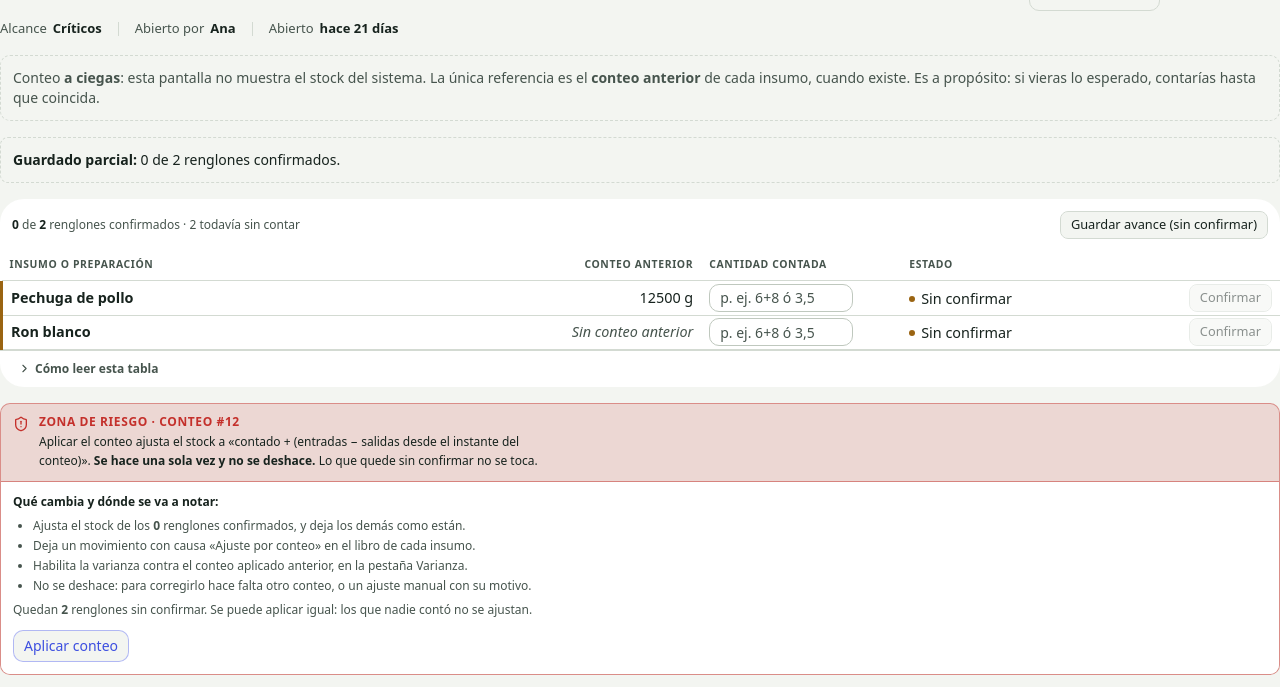
CountCapturePage — a ciegas, sin «todo coincide» (SPEC-NEGOCIO §5.4) › aplicar con éxito muestra el resumen antes/ajuste/después por insumo
This screenshot has width=1280, height=687.
Check: the text "Pechuga de pollo" is shown, box [2,281,378,315]
Click the button "Aplicar conteo".
click(71, 646)  # box [13,630,129,662]
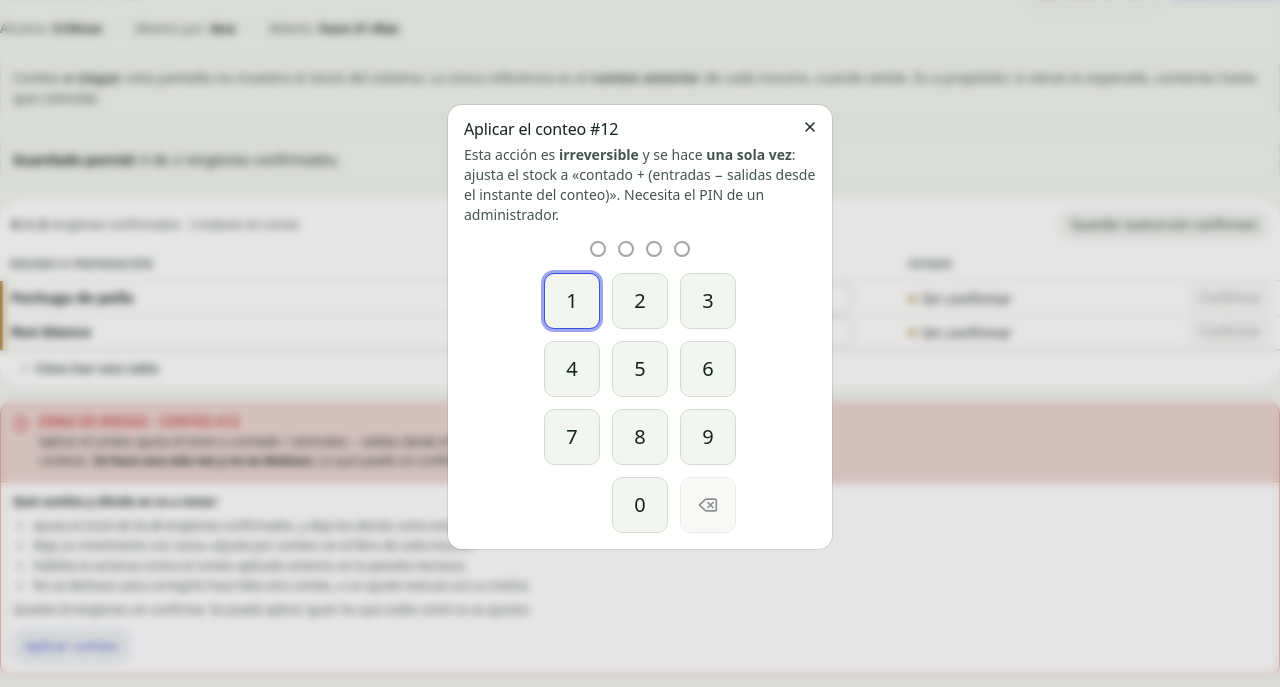
Check: the dialog is shown, box [448,105,832,549]
Click the button named "Dígito 1".
click(572, 301)  # box [544,273,600,329]
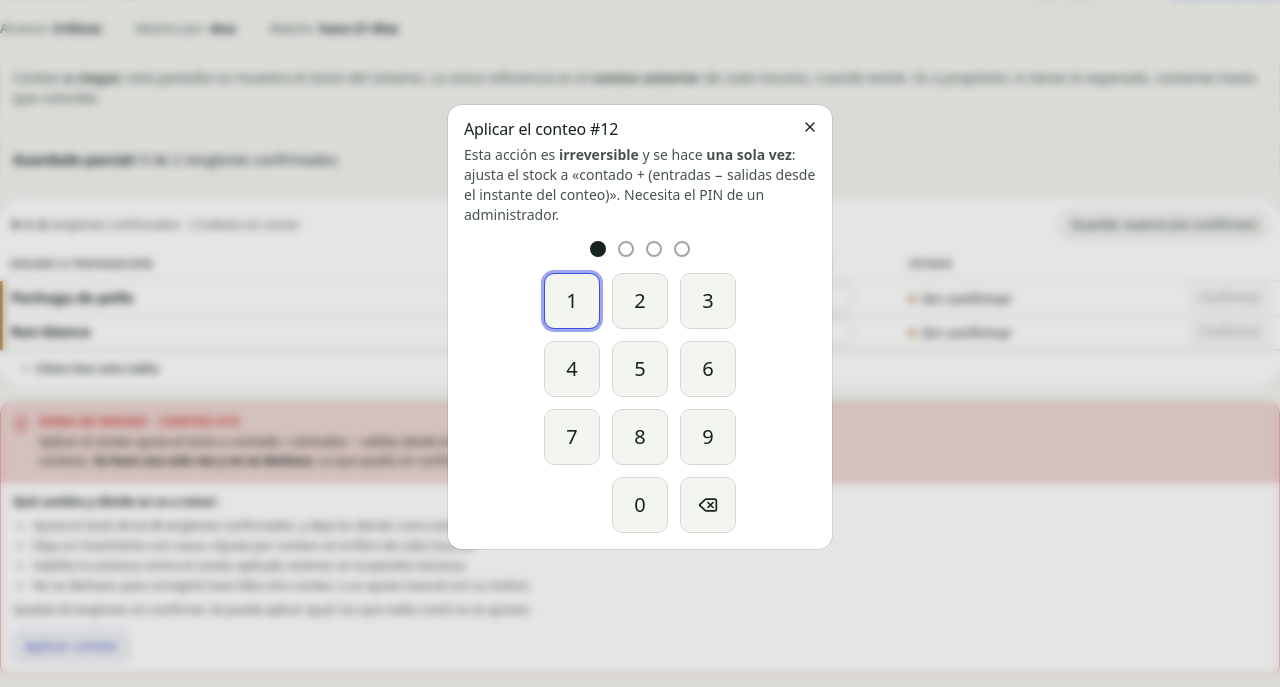
Click the button named "Dígito 2".
click(640, 301)  # box [612,273,668,329]
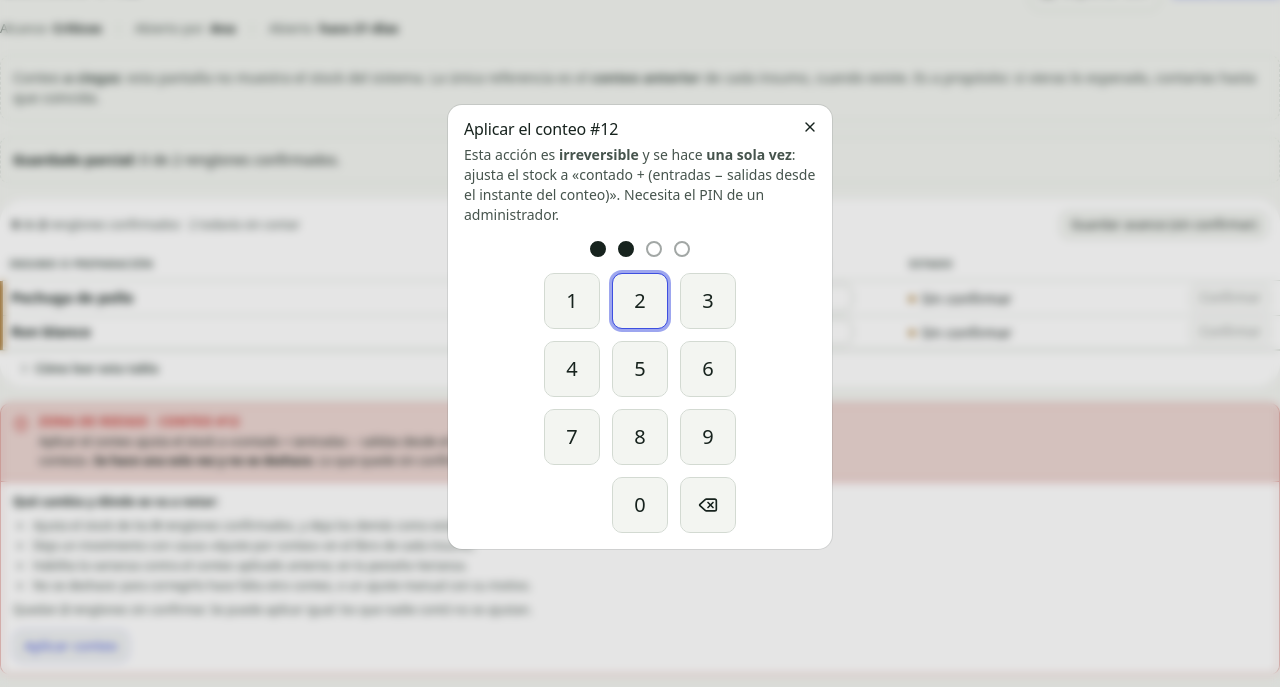
Click the button named "Dígito 3".
click(708, 301)  # box [680,273,736,329]
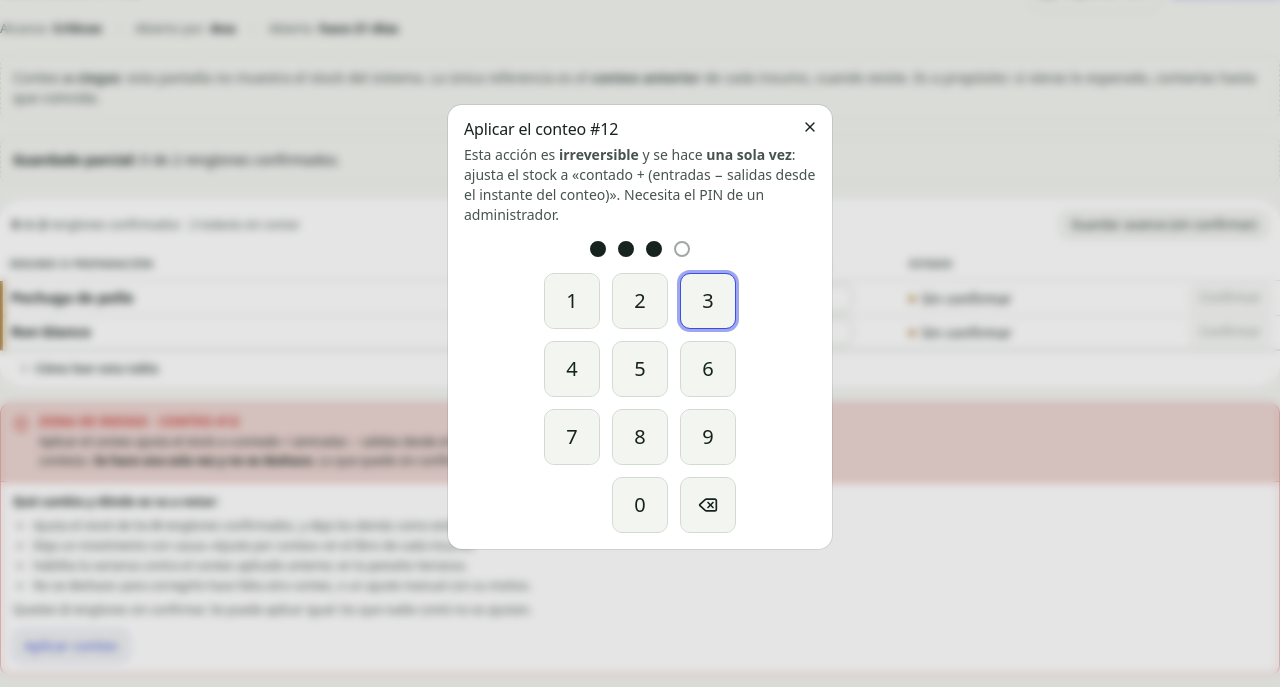
Click the button named "Dígito 4".
click(572, 369)  # box [544,341,600,397]
(page scrolled)
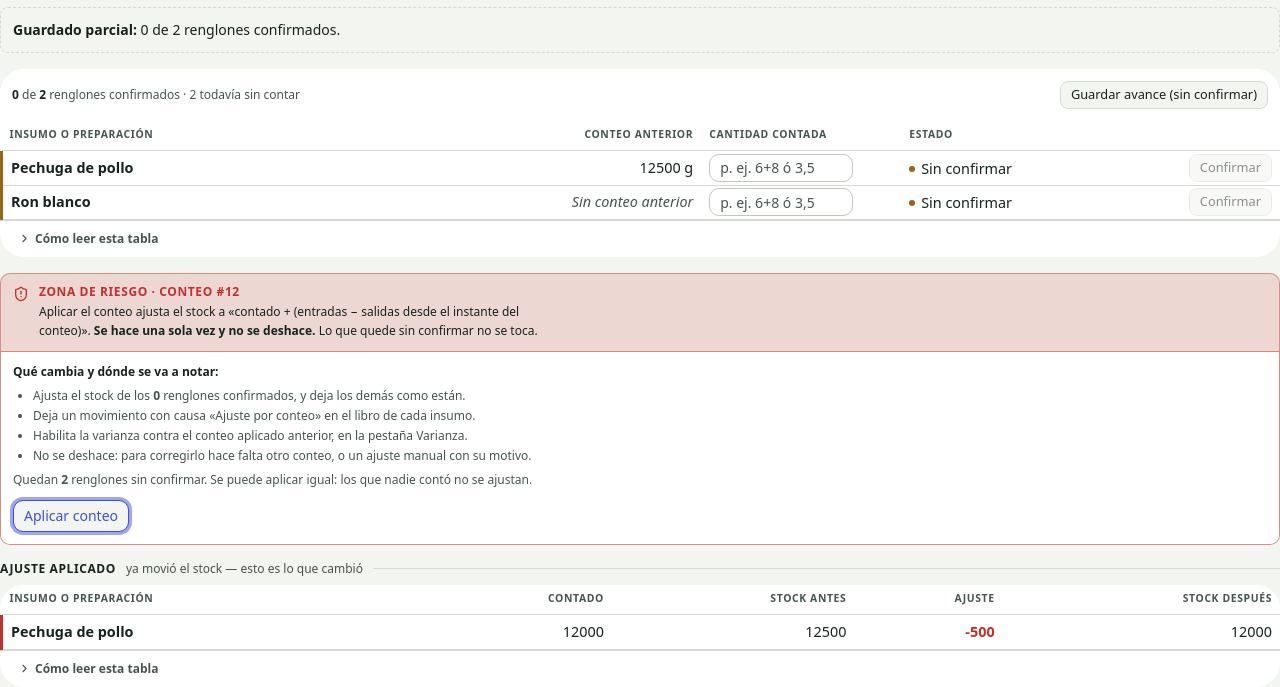
Check: the heading "Ajuste aplicado" is shown, box [0,560,116,576]
Check: the text "-500" is shown, box [965,622,995,641]
